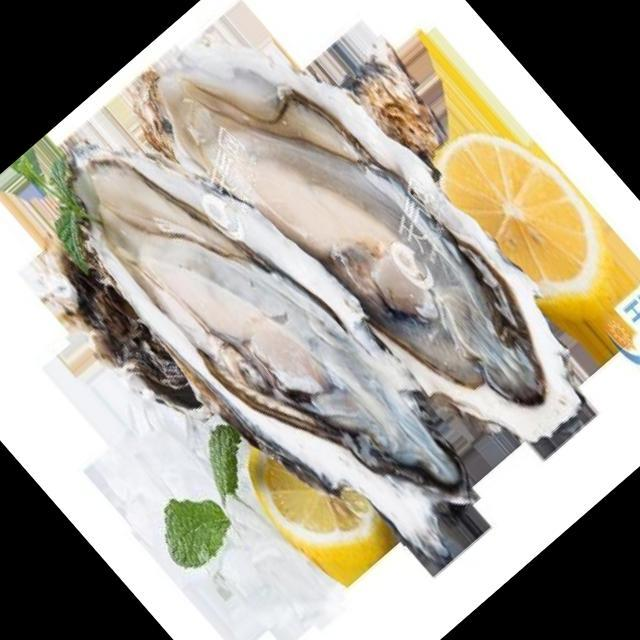Oyster- Indeterminate: (326, 29, 452, 181)
Oyster-Open: (9, 119, 494, 577), (126, 25, 613, 467)
